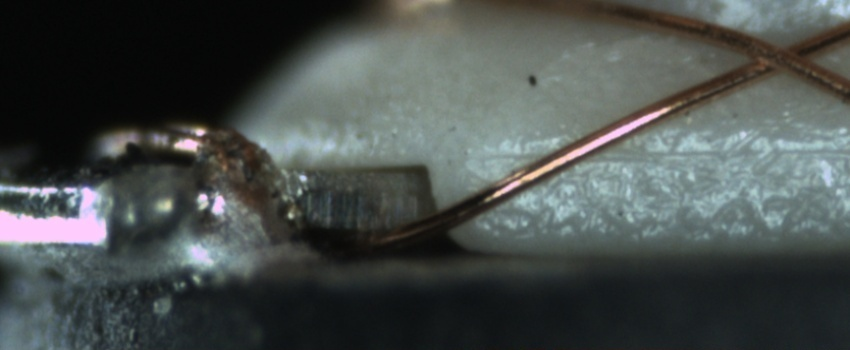CL: (733, 28, 828, 81)
DL: (471, 125, 849, 180)
TE: (86, 104, 264, 168)
